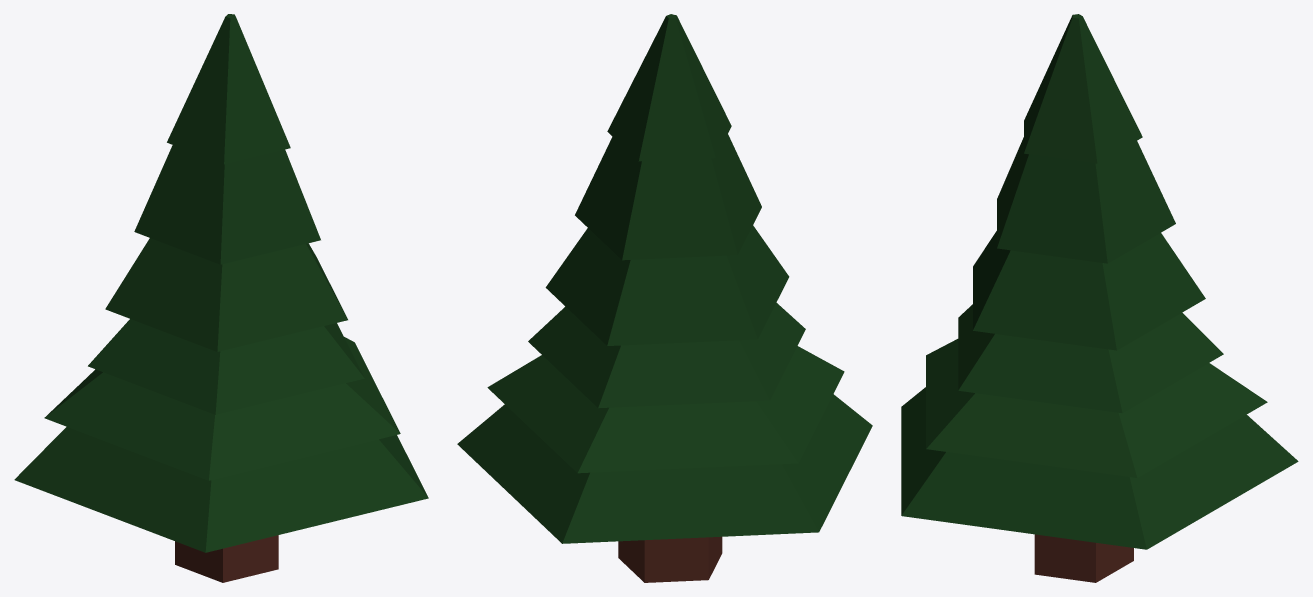
Rendered from LowpolyTreeColection1.fbx.
3 views of the same model, side by side, from view 1: azimuth 30°, elevation 25°; view 2: azimuth 150°, elevation 25°; view 3: azimuth 270°, elevation 25° (orthographic).
Visible parts, largest first — view 1: Cylinder.001; view 2: Cylinder.001; view 3: Cylinder.001.
Part boxes in pixels (x1,y1,x2,y2): Cylinder.001: (14,14,428,582); Cylinder.001: (457,14,872,582); Cylinder.001: (901,14,1298,582).
Size of the model in its own units: 762 by 1097 by 724.
